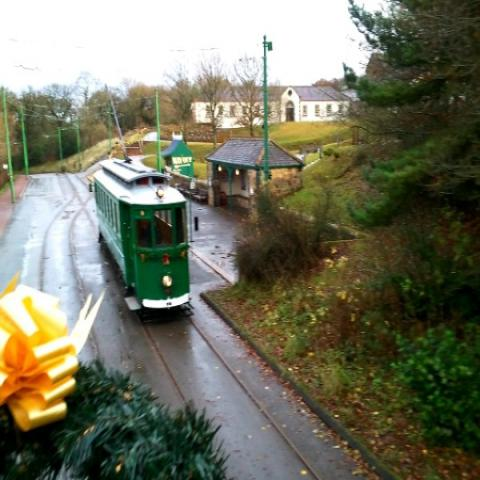bus: (96, 153, 198, 315)
